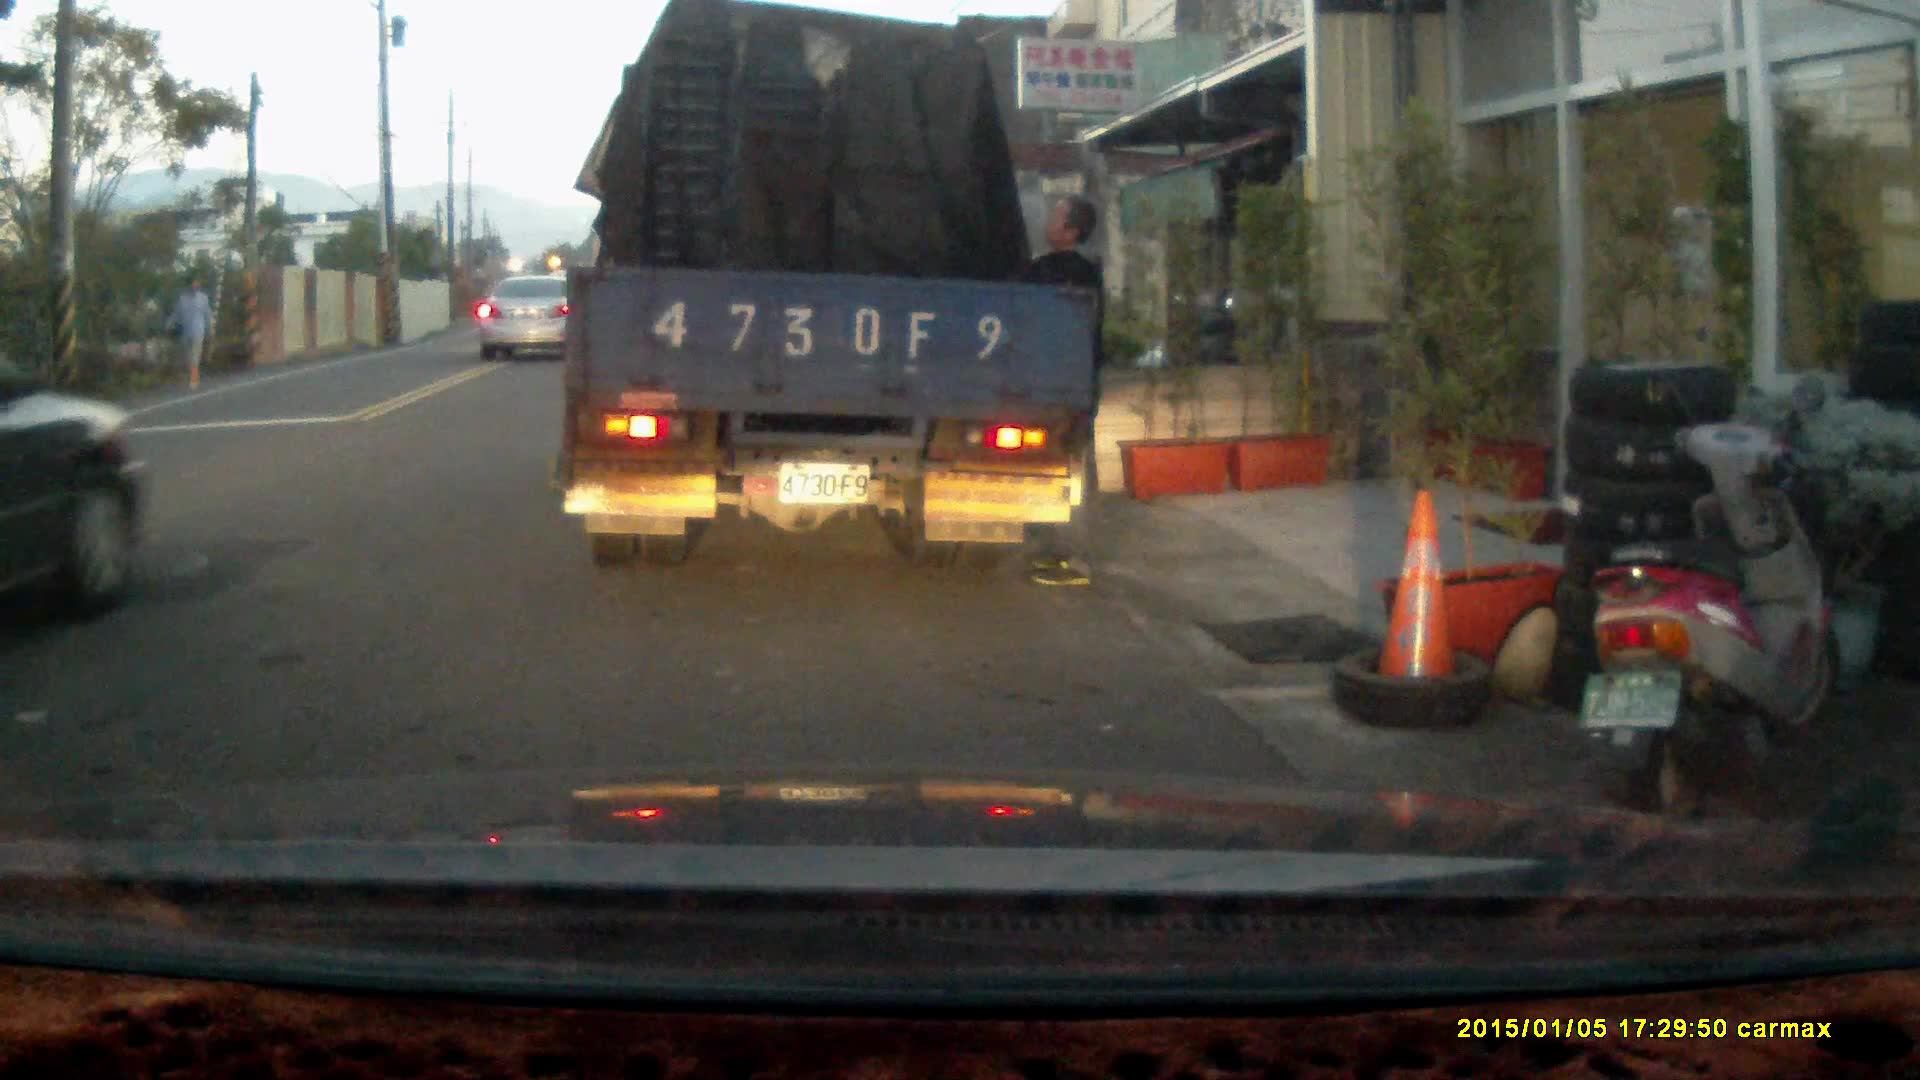pedestrian: (998, 194, 1107, 587), (168, 270, 216, 389)
vehicle: (565, 23, 1097, 572), (1, 338, 147, 631), (477, 269, 593, 361)
